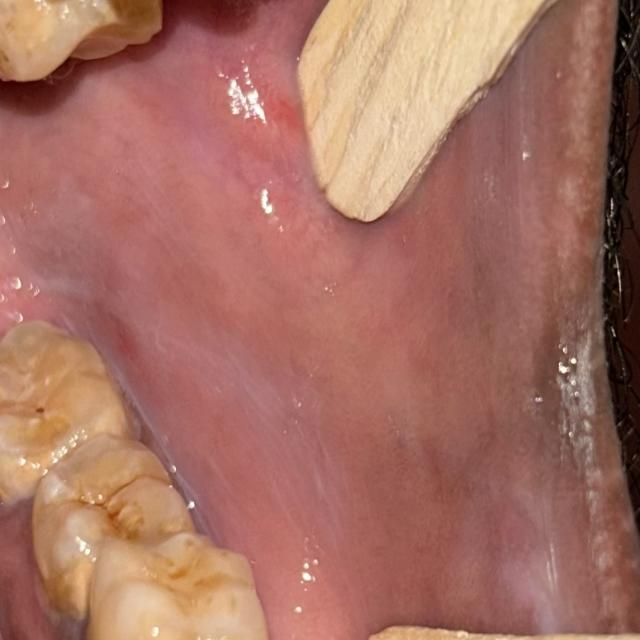leukoplakia-like-detection: (4, 166, 358, 606), (448, 388, 607, 636)
processing_area: (7, 0, 613, 639)
